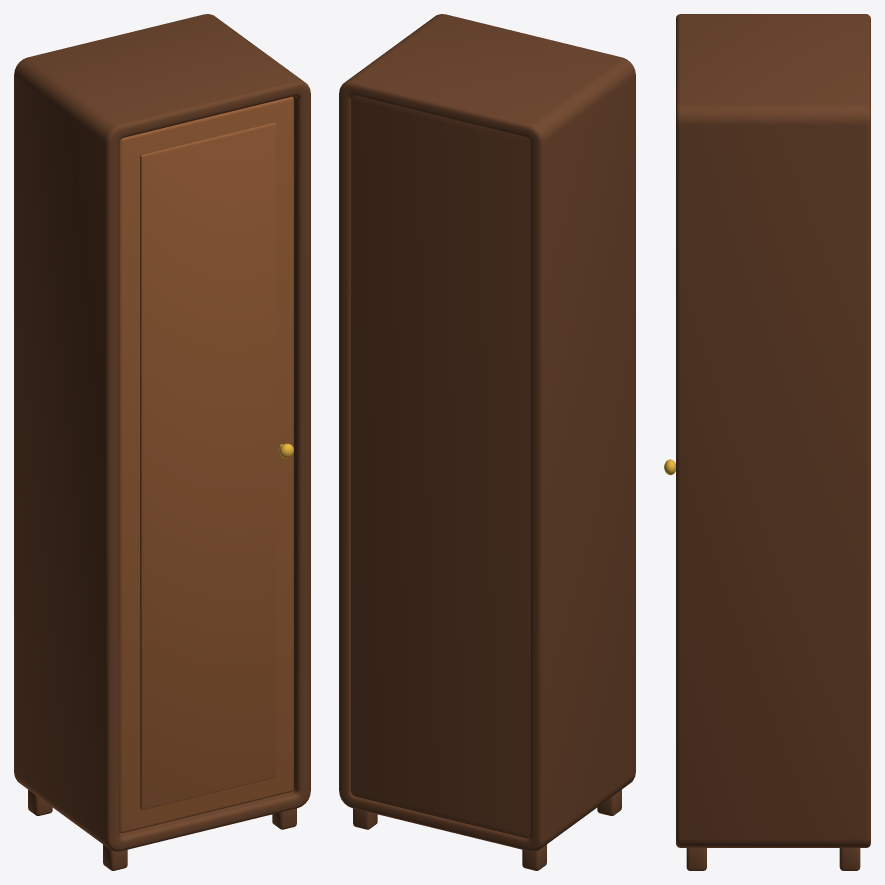
Rendered from armario_alto_estreito_madeira.glb.
3 views of the same model, side by side, from view 1: azimuth 30°, elevation 25°; view 2: azimuth 150°, elevation 25°; view 3: azimuth 270°, elevation 25° (orthographic). The views are drawn at different scales.
Parts seen in each view (by area): view 1: porta_1, armario_alto_estreito_madeira; view 2: armario_alto_estreito_madeira; view 3: armario_alto_estreito_madeira.
Boxes of the visible parts, left/top/right/bottom form: porta_1: left=119, top=96, right=293, bottom=833; armario_alto_estreito_madeira: left=14, top=14, right=310, bottom=870; armario_alto_estreito_madeira: left=339, top=14, right=635, bottom=870; armario_alto_estreito_madeira: left=676, top=14, right=870, bottom=870.
Size of the model in its own units: 0.52 by 1.82 by 0.4454.
Materials: 1 (1 with a texture image).
